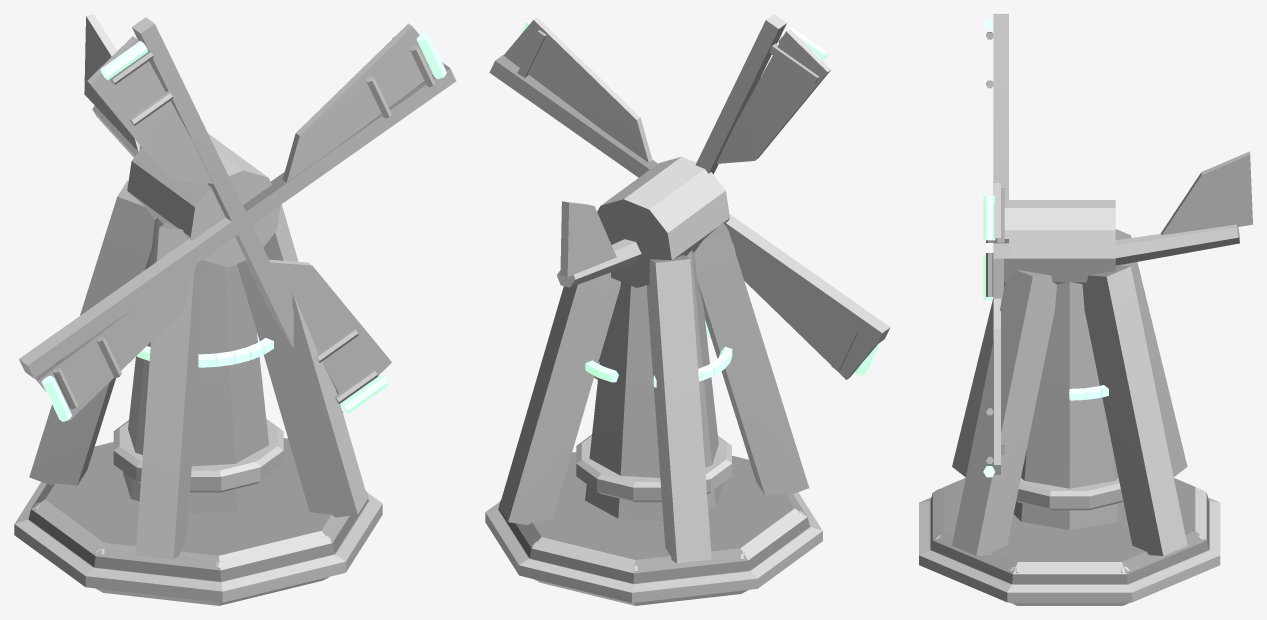
File: wind.glb
The picture shows the model from 3 angles, left to right: view 1: azimuth 30°, elevation 25°; view 2: azimuth 150°, elevation 25°; view 3: azimuth 270°, elevation 25°; orthographic projection. The views are drawn at different scales.
Visible parts, largest first — view 1: wind.001, WindRotor.001; view 2: wind.001, WindRotor.001; view 3: wind.001, WindRotor.001.
Part boxes in pixels (x1,y1,x2,y2): wind.001: (14, 14, 382, 605); WindRotor.001: (19, 17, 456, 421); wind.001: (485, 156, 822, 605); WindRotor.001: (489, 14, 890, 379); wind.001: (919, 151, 1252, 605); WindRotor.001: (983, 14, 1008, 477).
Size of the model in its own units: 1.52 by 1.93 by 1.17.
